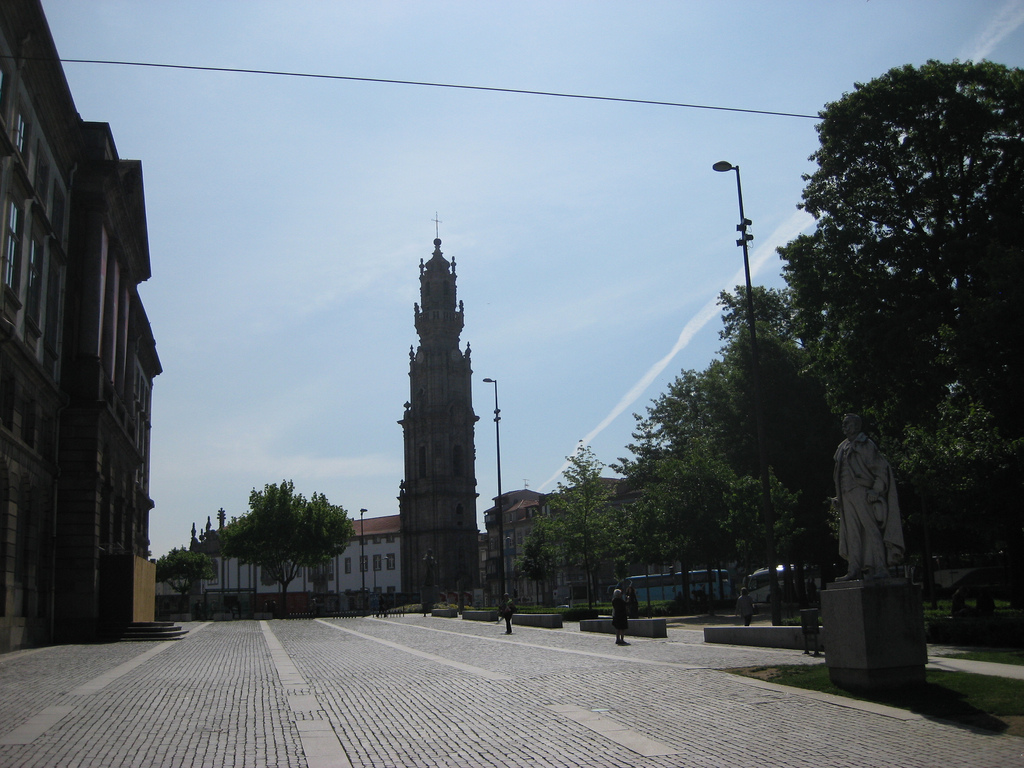clerigos: (397, 210, 481, 588)
